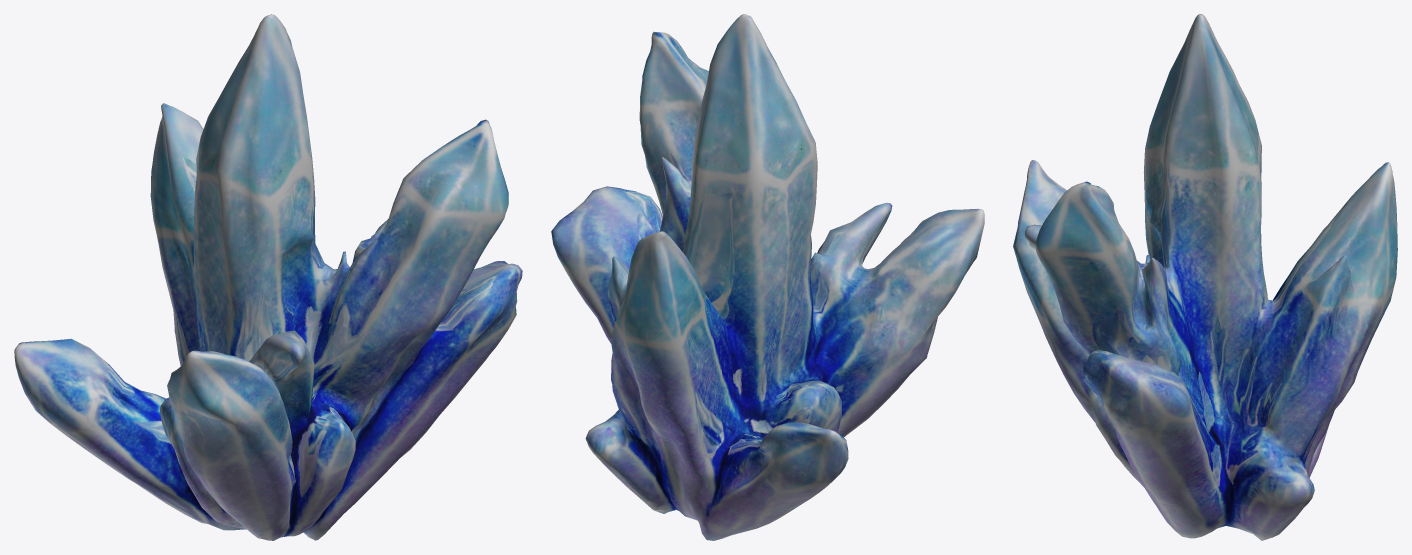
The model's file is 1232f9e231db_crystal_min.fbx.
3 views of the same model, side by side, from view 1: azimuth 30°, elevation 25°; view 2: azimuth 150°, elevation 25°; view 3: azimuth 270°, elevation 25° (orthographic). The views are drawn at different scales.
Visible parts, largest first — view 1: mesh; view 2: mesh; view 3: mesh.
Boxes of the visible parts, x1=… form: mesh: x1=14, y1=14, x2=522, y2=540; mesh: x1=551, y1=14, x2=984, y2=540; mesh: x1=1013, y1=14, x2=1397, y2=540.
Bounding box in the file's own units: 78.09 × 99.21 × 68.07.
